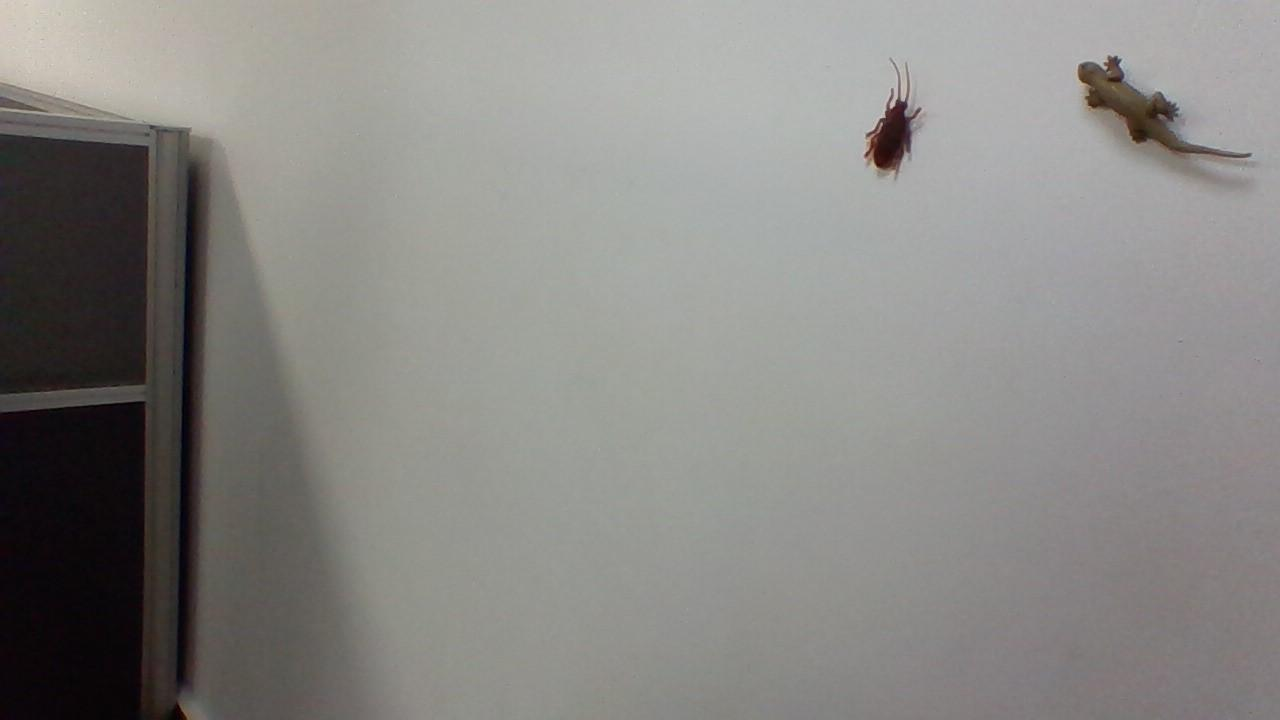cockroach: (857, 52, 928, 177)
lizard: (1065, 46, 1259, 169)
